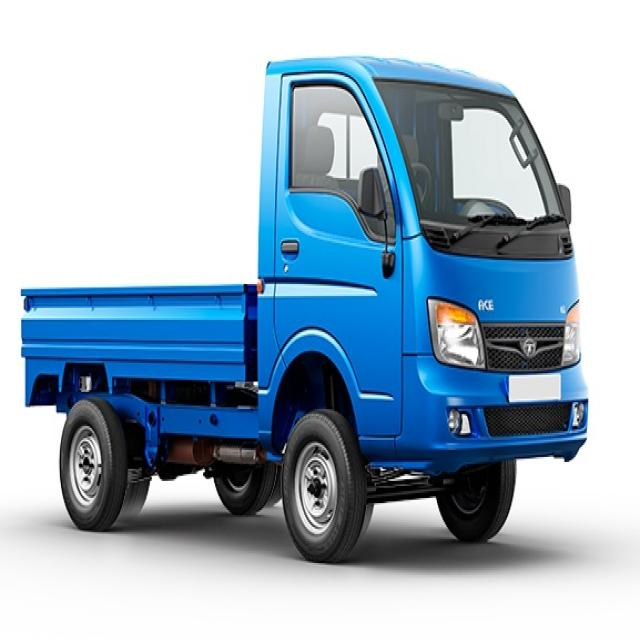truck: (22, 60, 589, 561)
